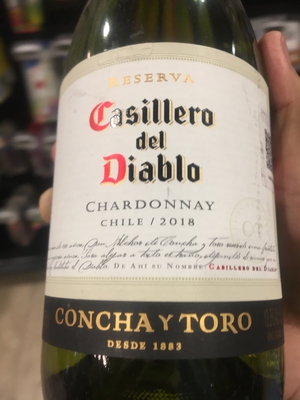casillero del diablo chardonnay: (35, 16, 290, 393)
